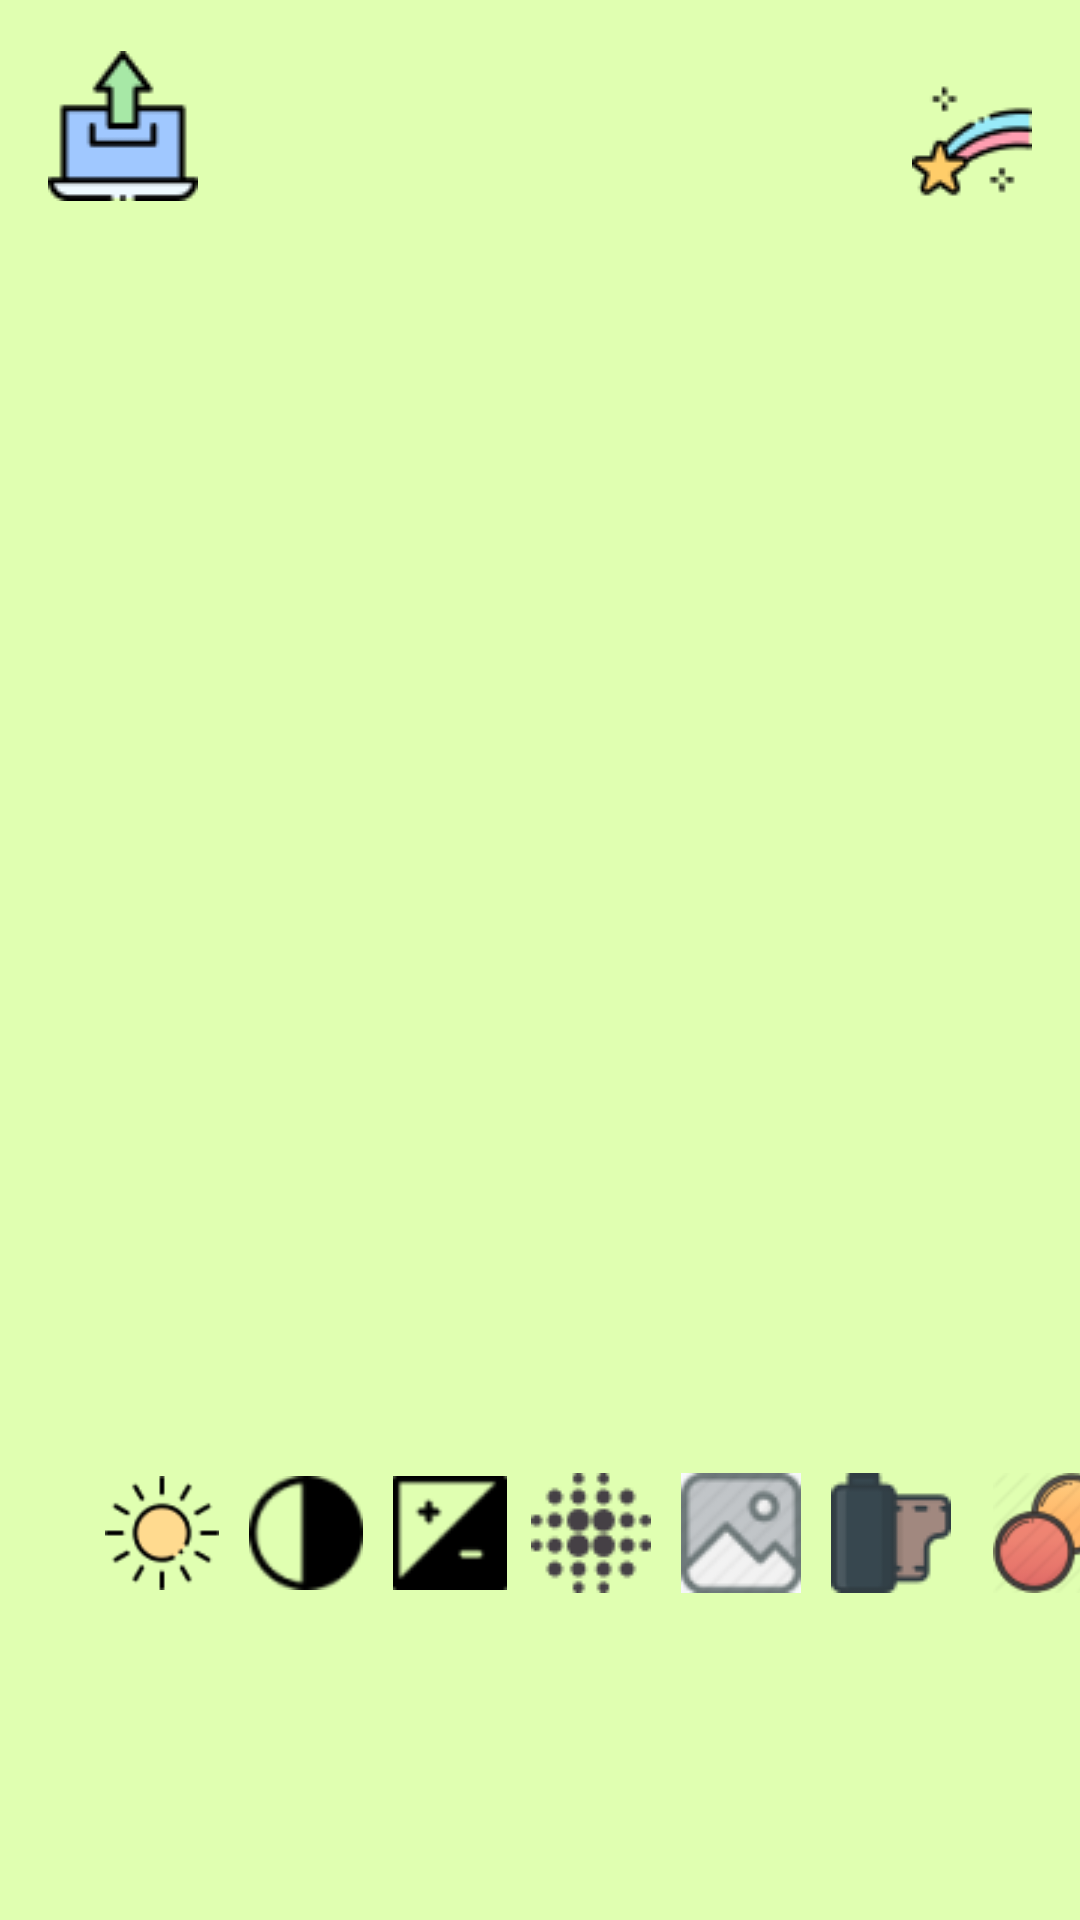

Where to tap for icons on this 1080 × 1920 app screen, as [x,y]:
astronomy: [972,141]
contrast: [306,1533]
negative: [891,1533]
save: [123,126]
sun: [162,1533]
